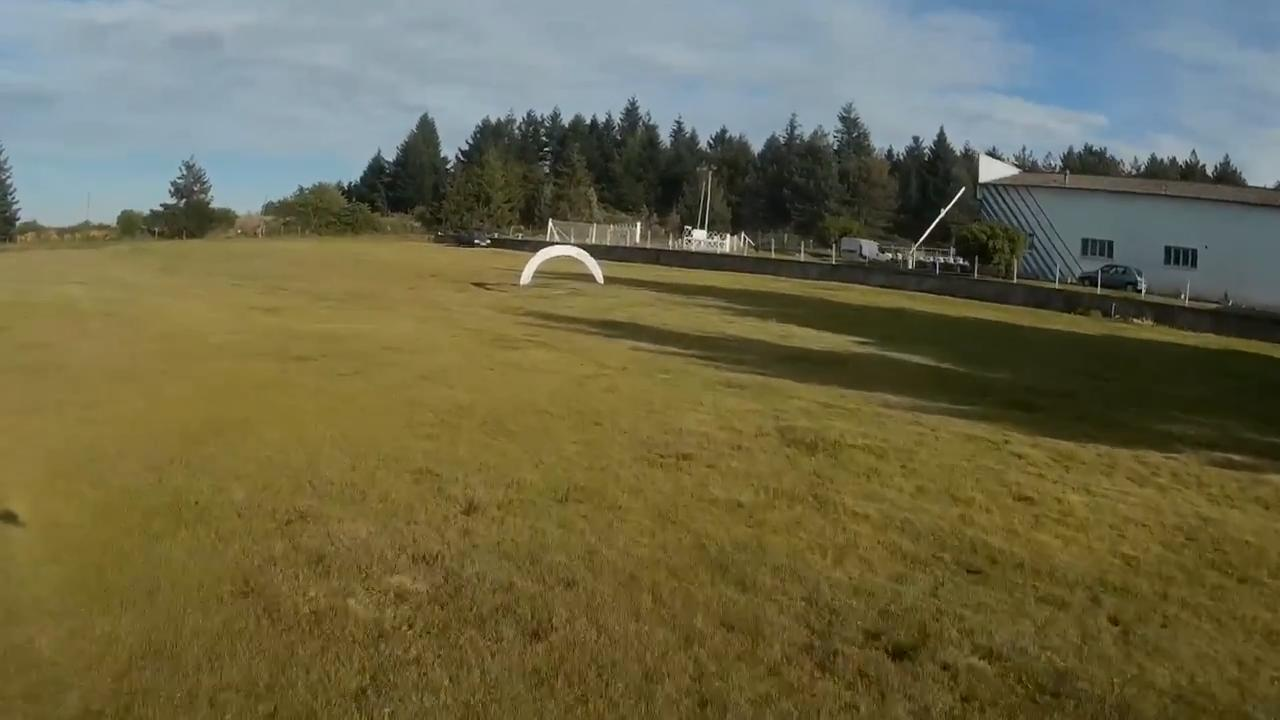gate: (518, 242, 603, 286)
